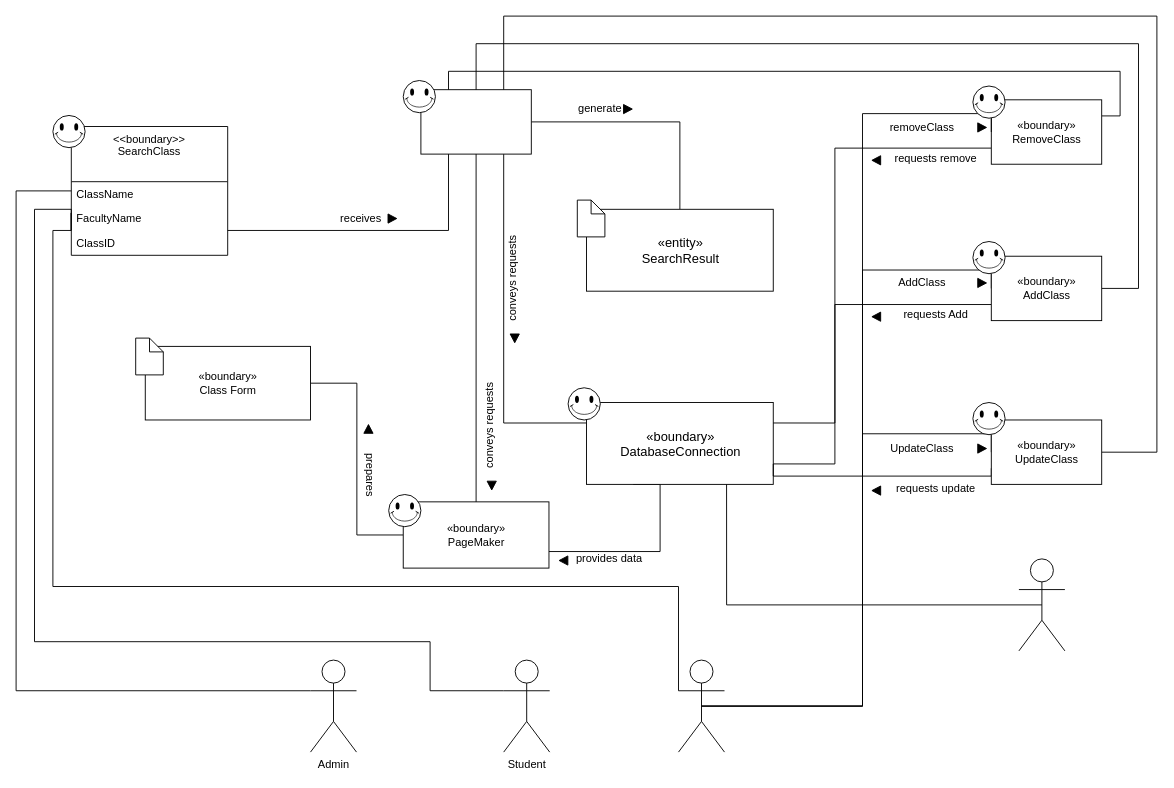
Some shapes in this 1174 by 788 pixel diagram are drawn without their labels. The shapes that lost their labels are listed below. From the top down, each one's centre as x and y in pixels, then its label:
point 475,121: «boundary» Controller
point 1041,604: Database
point 701,705: Faculty
